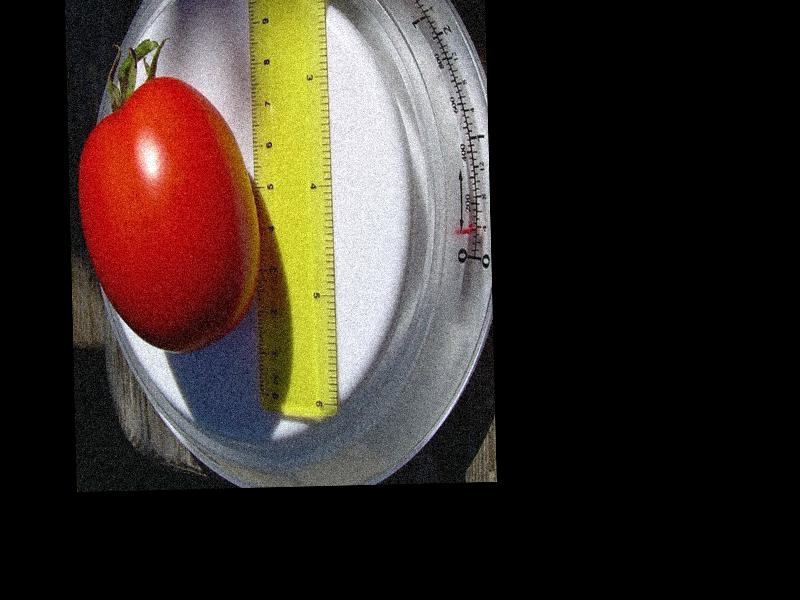Tomato: (74, 73, 267, 353)
